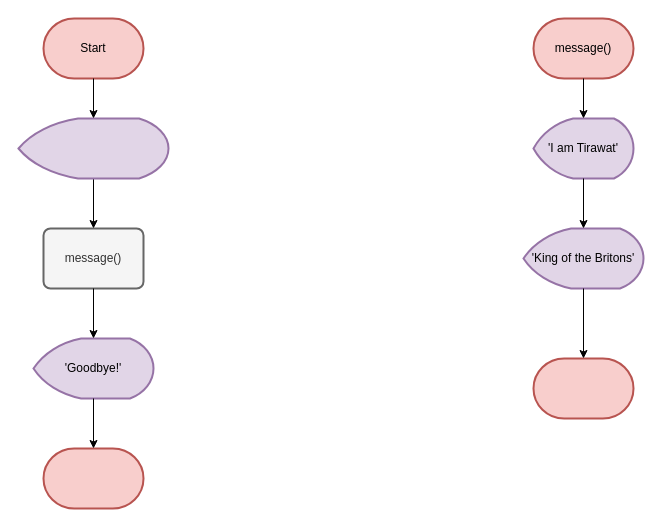
The diagram is 661 pixels wide and 526 high, and some of its shapes have lost their labels. Here are the shapes that lost their labels. From the top down, the centre of each, then its label:
At pixel 93 148: "'I have a message for you.'".
At pixel 583 388: "Return".
At pixel 93 478: "Stop".
